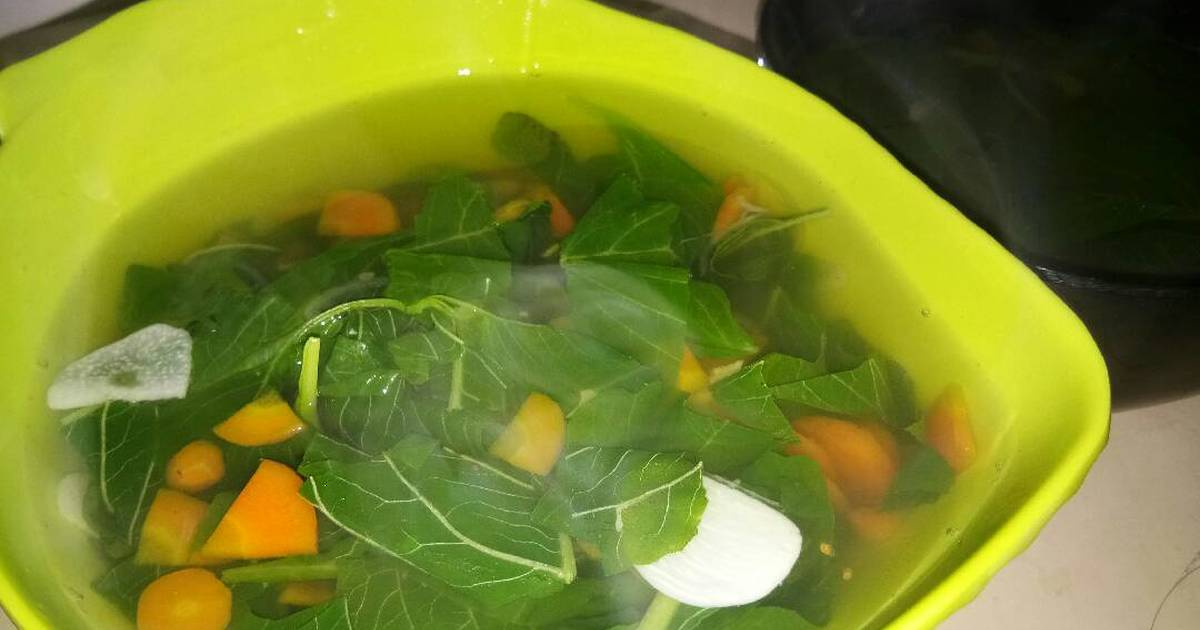Sayur Bayam: (91, 111, 857, 630)
